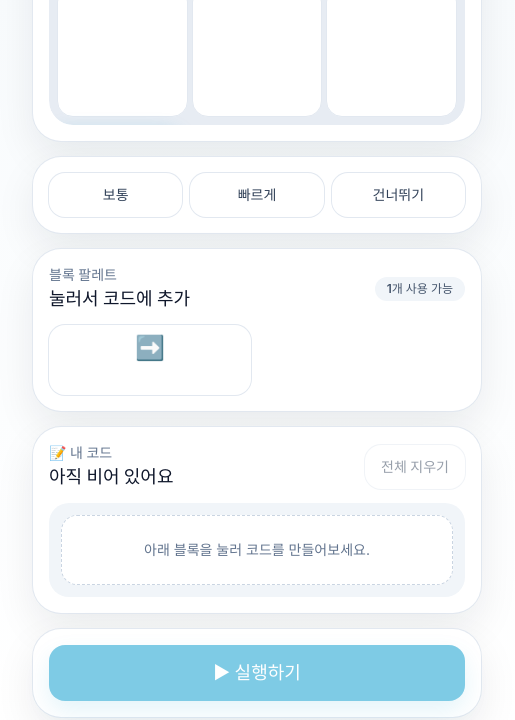
Test case: Level screen › shows a success message after solving level 0
(page scrolled)
Click the button with test id "block-picker-move-right" at x=150, y=360, box [49, 325, 251, 395]
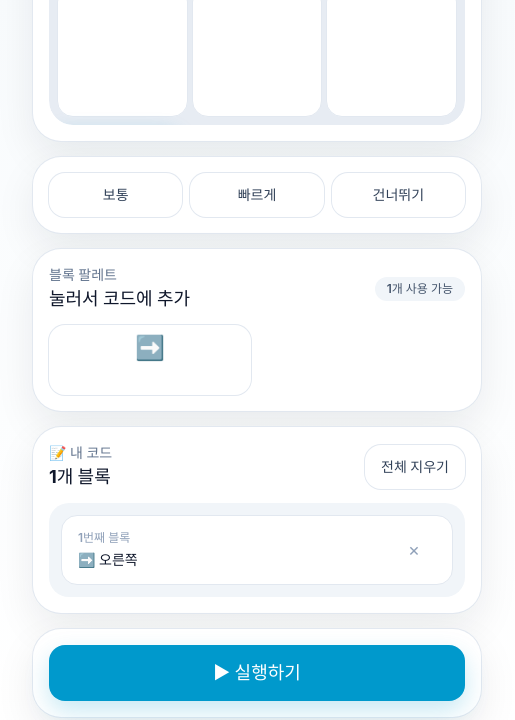
Click the button "▶ 실행하기" at x=257, y=673, box [49, 645, 465, 701]
(page scrolled)
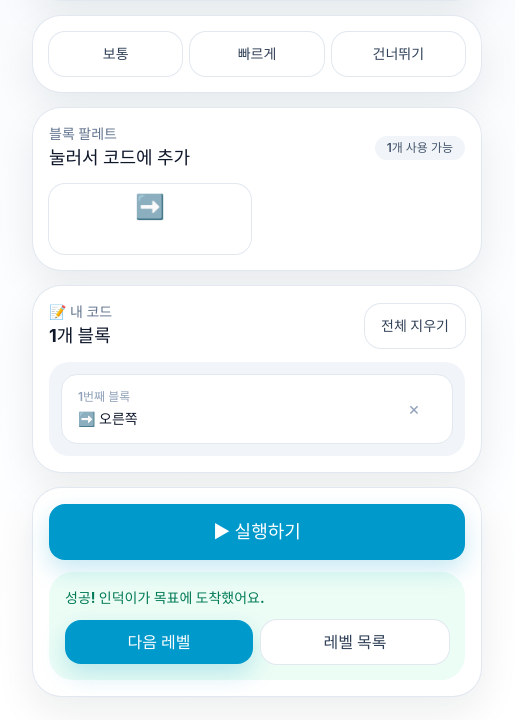
Now the text "성공! 인덕이가 목표에 도착했어요." is shown, box [65, 589, 265, 606]
